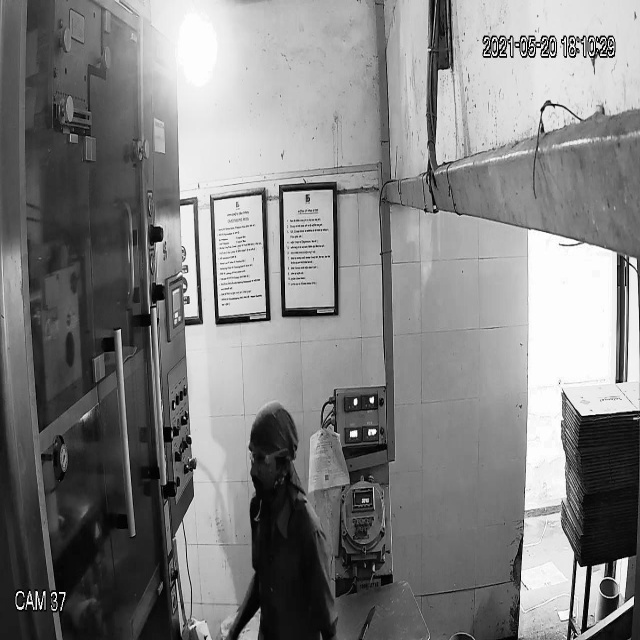Gafas: (243, 444, 292, 476)
